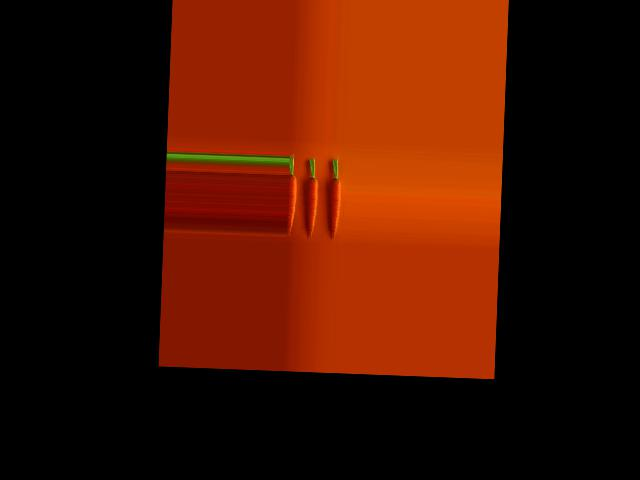carrot: (287, 152, 298, 226)
